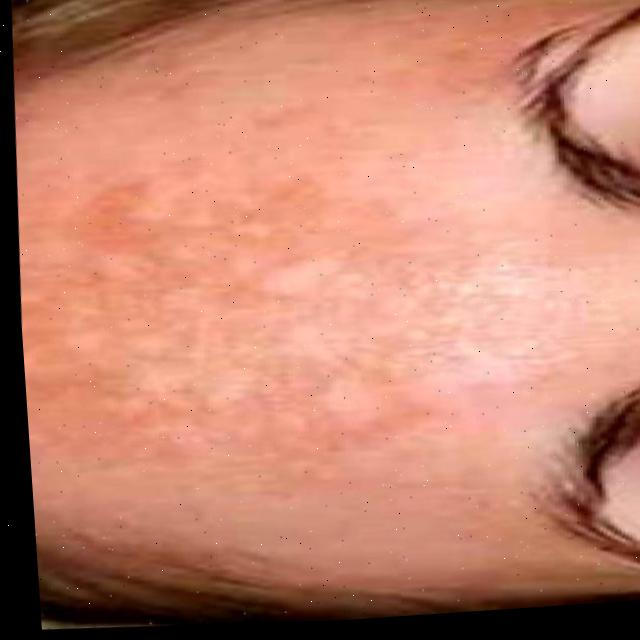Melasma: (15, 172, 416, 528)
